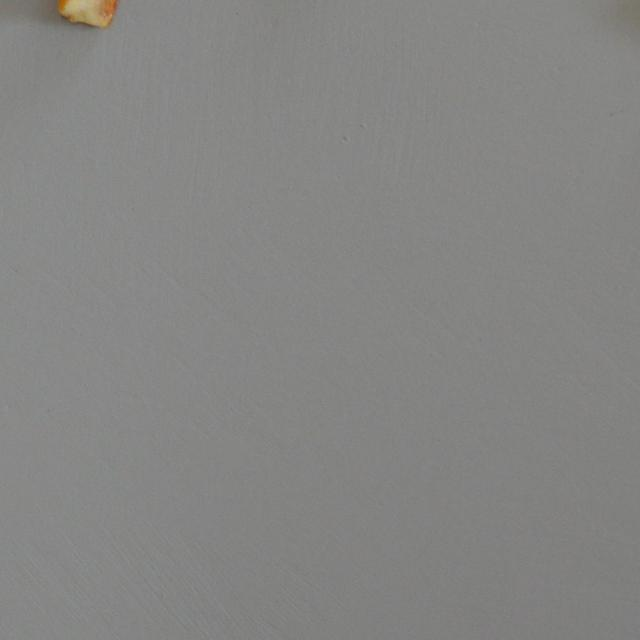dañado: (54, 0, 145, 32)
